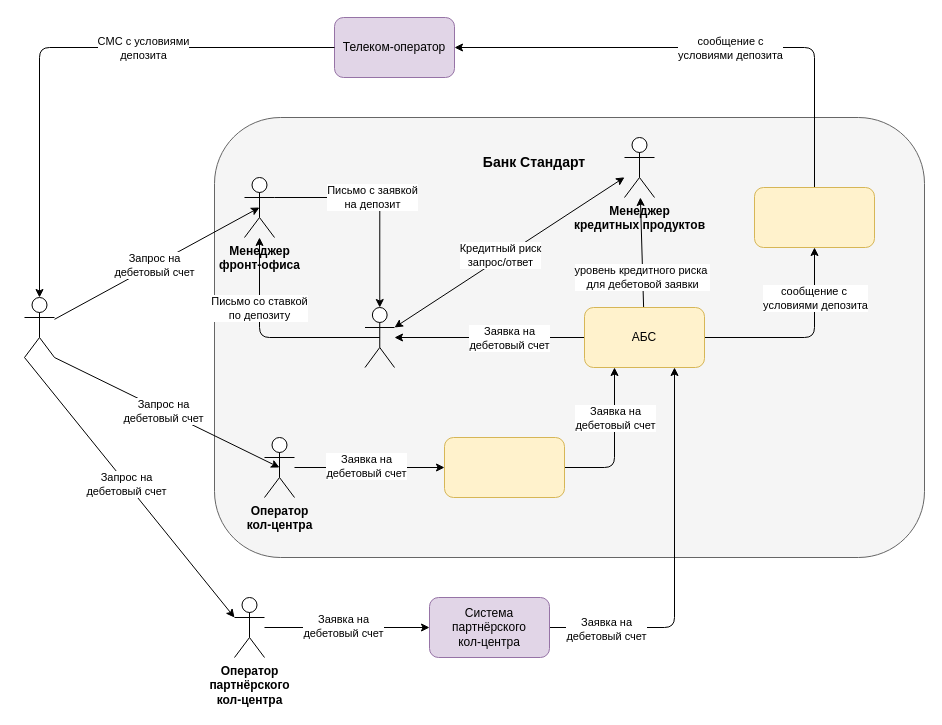
Some shapes in this 942 by 725 pixel diagram are drawn without their labels. The centre of each missing label's shape, as x and y in pixels:
Клиент: point (39, 327)
Менеджер депозитных продуктов: point (379, 337)
Система кол-центра: point (504, 467)
СМС-шлюз: point (814, 217)
